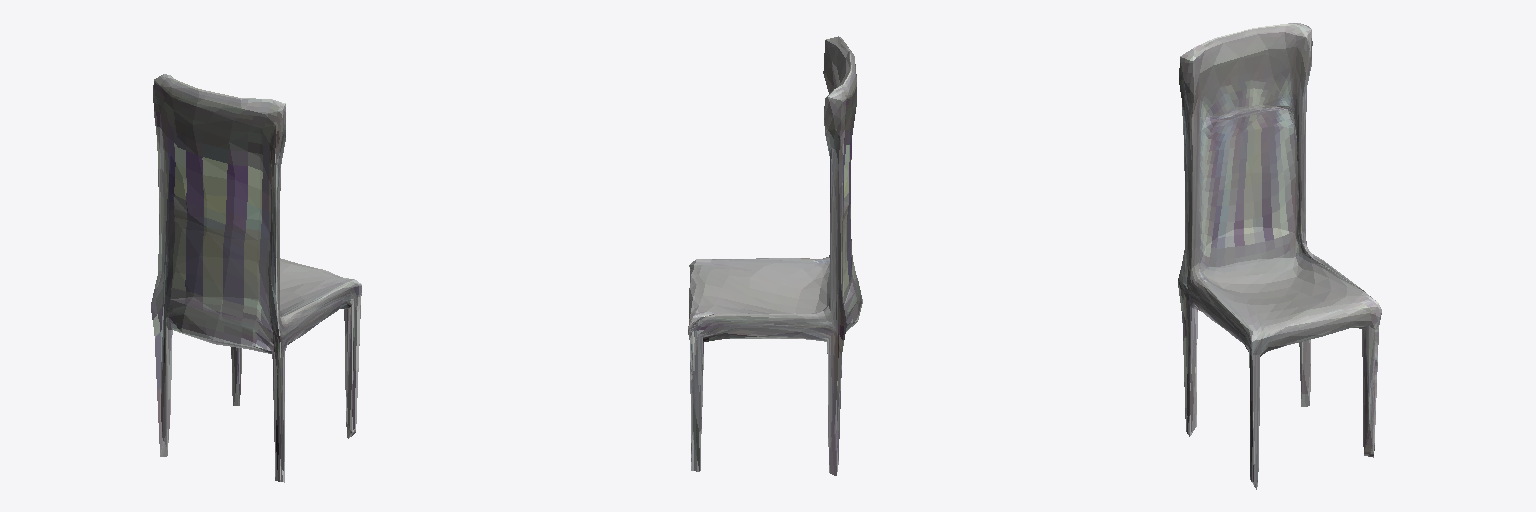
3 views of the same model, side by side, from view 1: azimuth 30°, elevation 25°; view 2: azimuth 150°, elevation 25°; view 3: azimuth 270°, elevation 25° (orthographic).
Size of the model in its own units: 0.4944 by 1 by 0.4758.
1 materials, 1 textured.